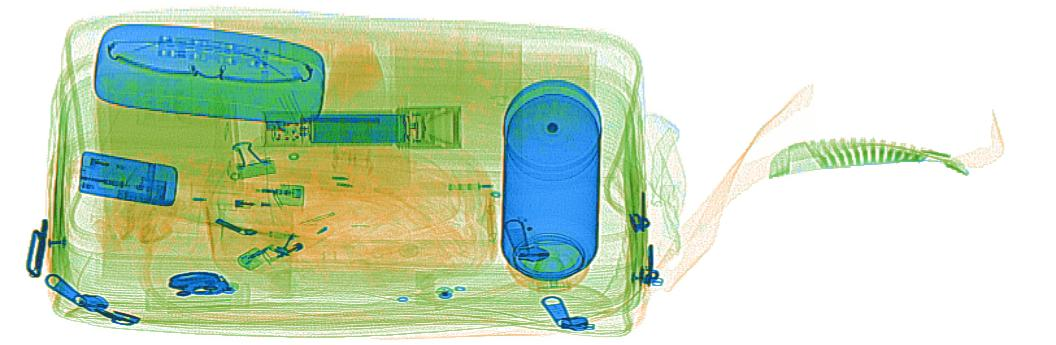battery: (309, 114, 407, 145)
lighter: (76, 151, 179, 207), (237, 217, 335, 274), (188, 175, 305, 209)
